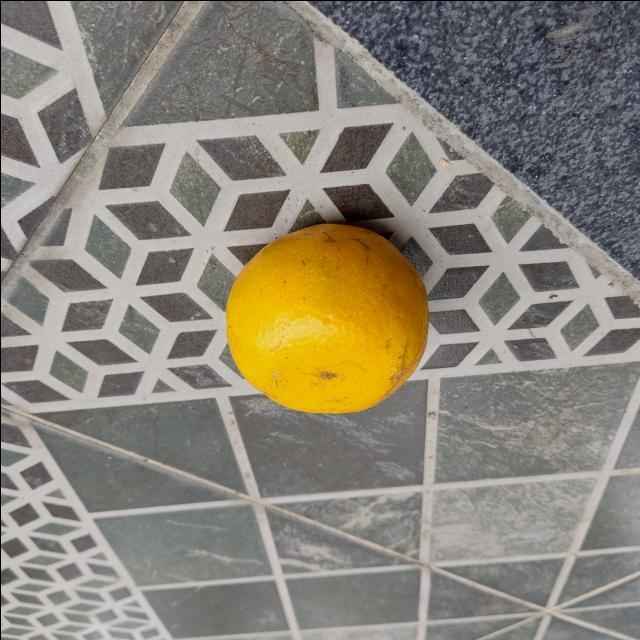agrume: (224, 216, 430, 416)
